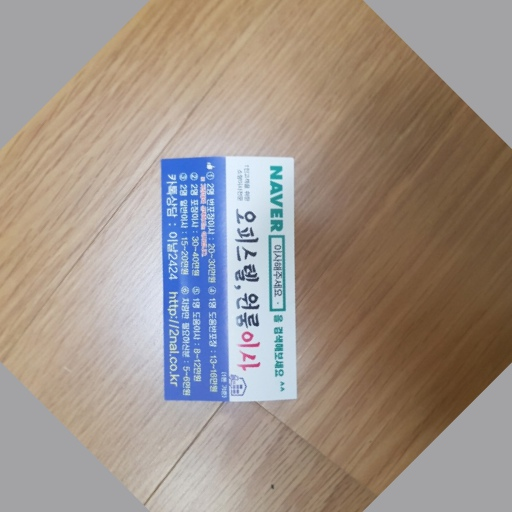Paper_2: (151, 144, 305, 407)
